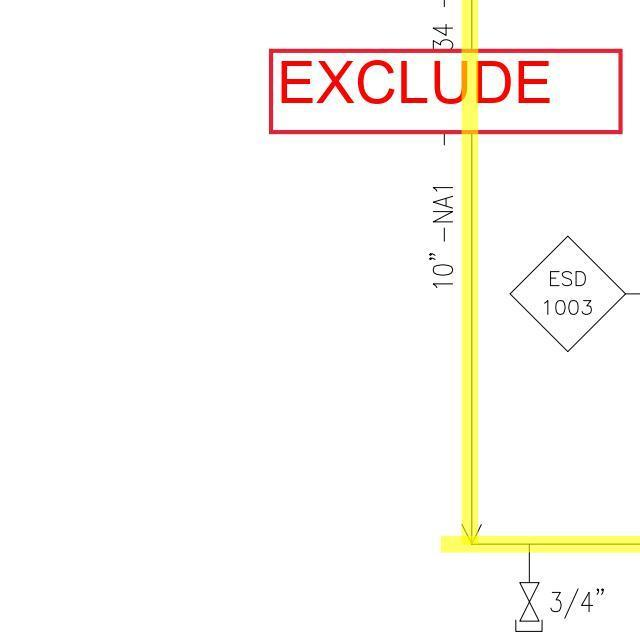EC: (508, 549, 549, 637)
GV: (517, 576, 541, 626)
